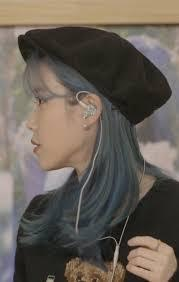earphone: (76, 99, 98, 119)
